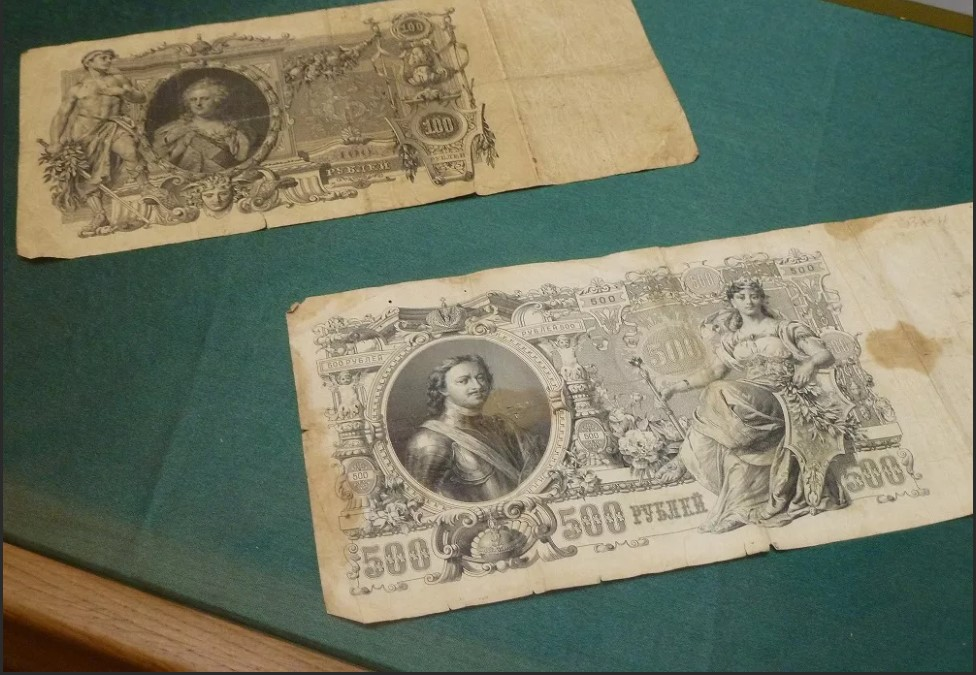cash: (285, 203, 976, 625), (16, 1, 697, 259)
